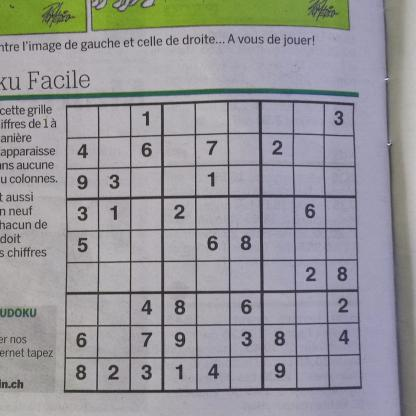sudoku: (61, 96, 368, 395)
